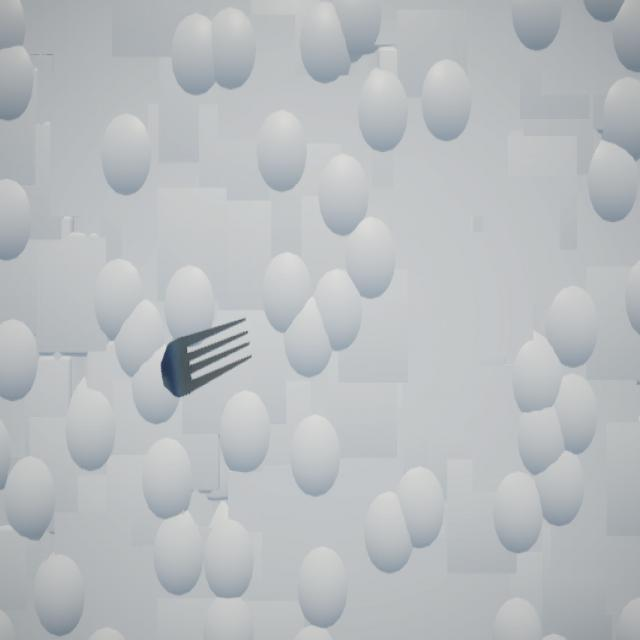top_folk: (162, 319, 253, 398)
